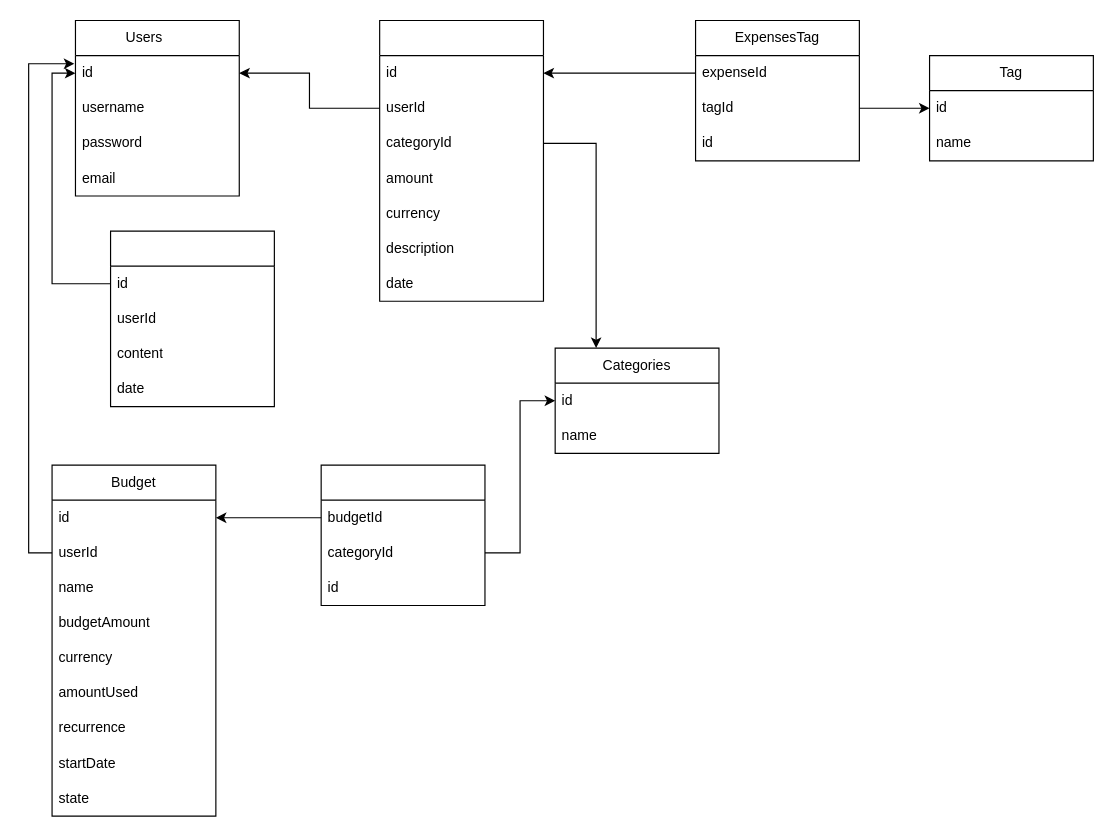
Image size: 1114x837. Some labels were removed from this diagram. The box of each missing label's shape, as (x1, y1, x2, y2) in pixels:
BudgetCategories: (320, 464, 485, 605)
Expenses: (378, 19, 543, 301)
Notifications: (109, 230, 274, 407)
